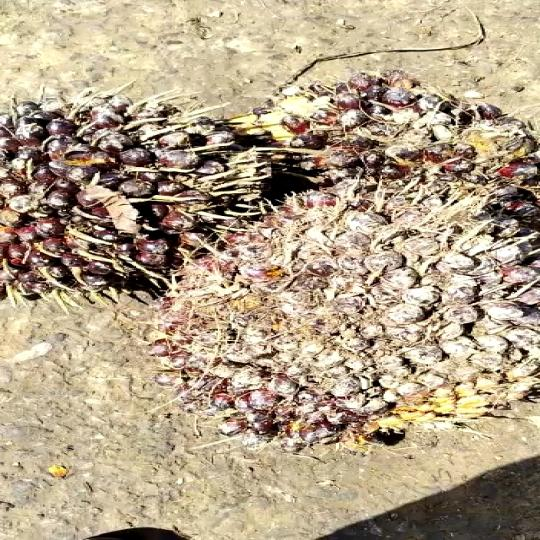kurang masak: (133, 184, 540, 452), (1, 90, 264, 295), (223, 72, 540, 237)
